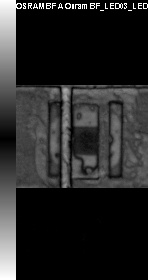led: (49, 104, 122, 177)
